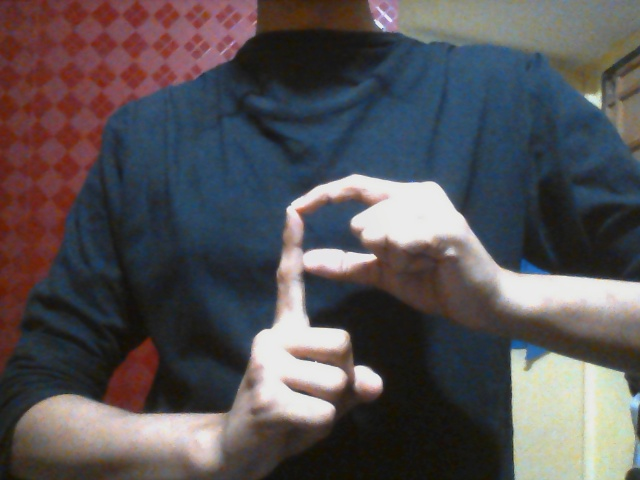P: (231, 173, 502, 457)
